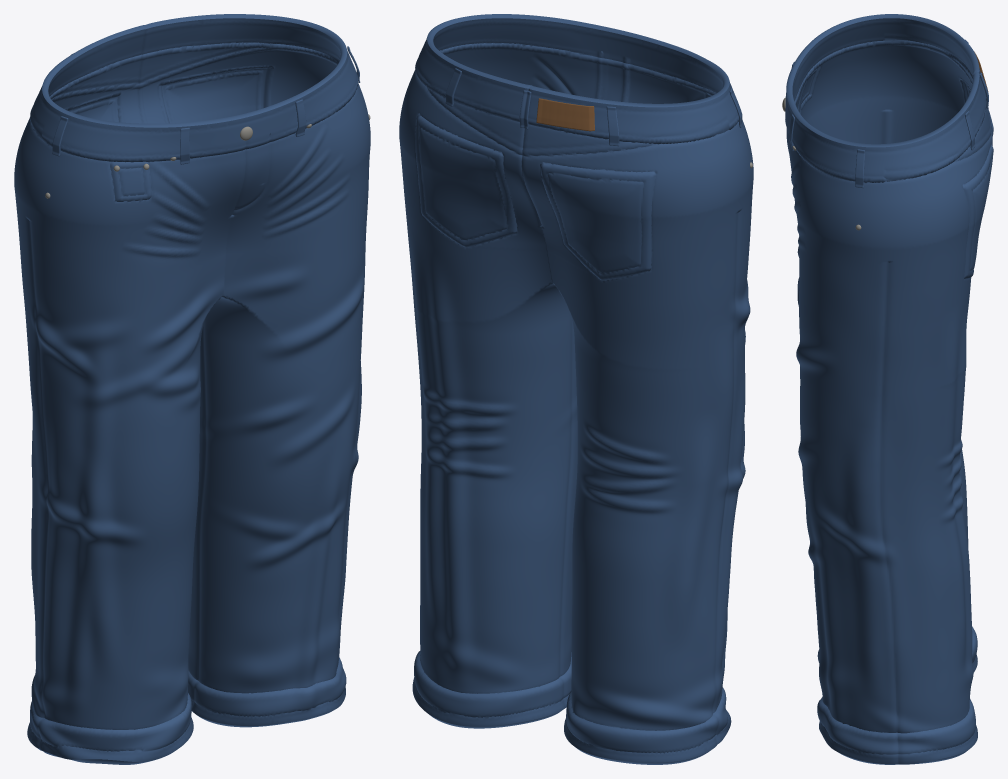
The model's file is 28_vaquero_boyfriend.glb.
3 renders of one model, left to right at view 1: azimuth 30°, elevation 25°; view 2: azimuth 150°, elevation 25°; view 3: azimuth 270°, elevation 25°, orthographic. The views are drawn at different scales.
Visible parts, largest first — view 1: body; view 2: body, trim; view 3: body.
Part boxes in pixels (x1=…): body: x1=14, y1=14, x2=370, y2=764; body: x1=399, y1=14, x2=753, y2=764; trim: x1=536, y1=98, x2=594, y2=131; body: x1=785, y1=14, x2=993, y2=764.
Bounding box in the file's own units: 0.4698 × 0.9024 × 0.2728.
